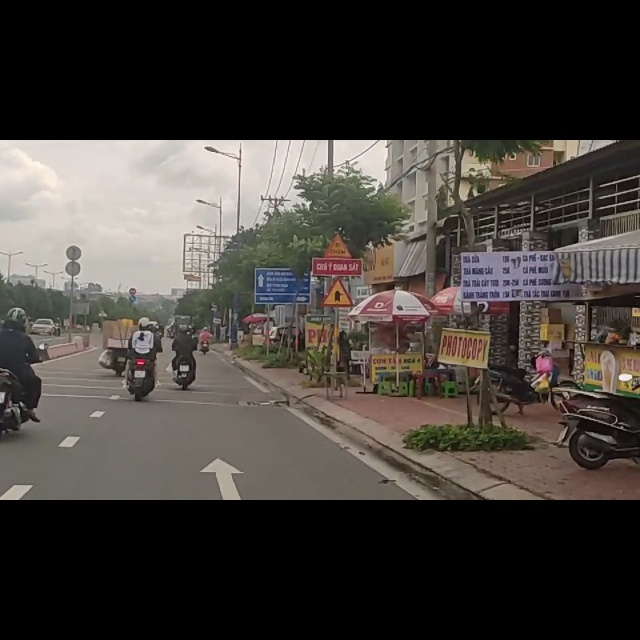bien_hieu_lenh: (323, 249, 354, 297), (323, 165, 353, 210)
